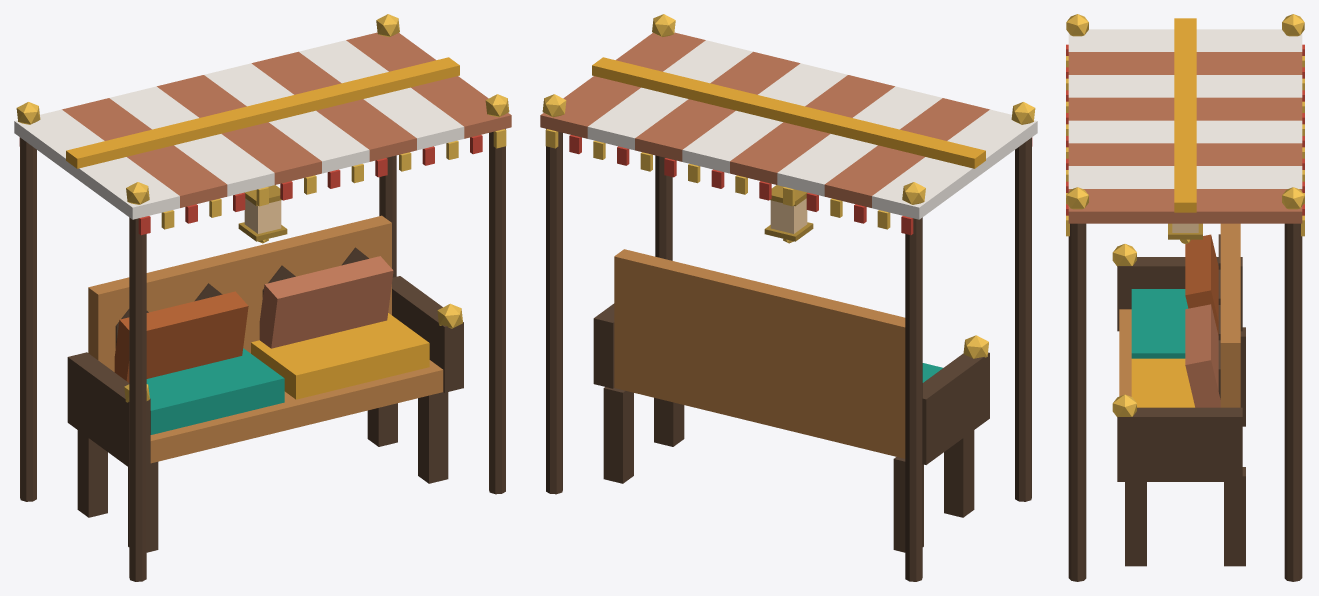
The model's file is CatCafe_Decor_CaravanBench.glb.
The picture shows the model from 3 angles, left to right: view 1: azimuth 30°, elevation 25°; view 2: azimuth 150°, elevation 25°; view 3: azimuth 270°, elevation 25°; orthographic projection.
Visible parts, largest first — view 1: CatCafe_Decor_CaravanBench, CatCafe_Decor_CaravanBench_Lantern_Glow, CatCafe_Decor_CaravanBench_Lantern_Swing; view 2: CatCafe_Decor_CaravanBench, CatCafe_Decor_CaravanBench_Lantern_Glow, CatCafe_Decor_CaravanBench_Lantern_Swing; view 3: CatCafe_Decor_CaravanBench, CatCafe_Decor_CaravanBench_Lantern_Swing.
Boxes of the visible parts, x1=… form: CatCafe_Decor_CaravanBench: x1=14, y1=14, x2=511, y2=581; CatCafe_Decor_CaravanBench_Lantern_Glow: x1=244, y1=198, x2=281, y2=233; CatCafe_Decor_CaravanBench_Lantern_Swing: x1=238, y1=185, x2=287, y2=243; CatCafe_Decor_CaravanBench: x1=540, y1=14, x2=1037, y2=581; CatCafe_Decor_CaravanBench_Lantern_Glow: x1=770, y1=198, x2=807, y2=233; CatCafe_Decor_CaravanBench_Lantern_Swing: x1=764, y1=185, x2=813, y2=243; CatCafe_Decor_CaravanBench: x1=1066, y1=14, x2=1304, y2=581; CatCafe_Decor_CaravanBench_Lantern_Swing: x1=1168, y1=223, x2=1202, y2=243.
Size of the model in its own units: 3.96 by 3.92 by 2.17.
Materials: 1 (1 with a texture image).
